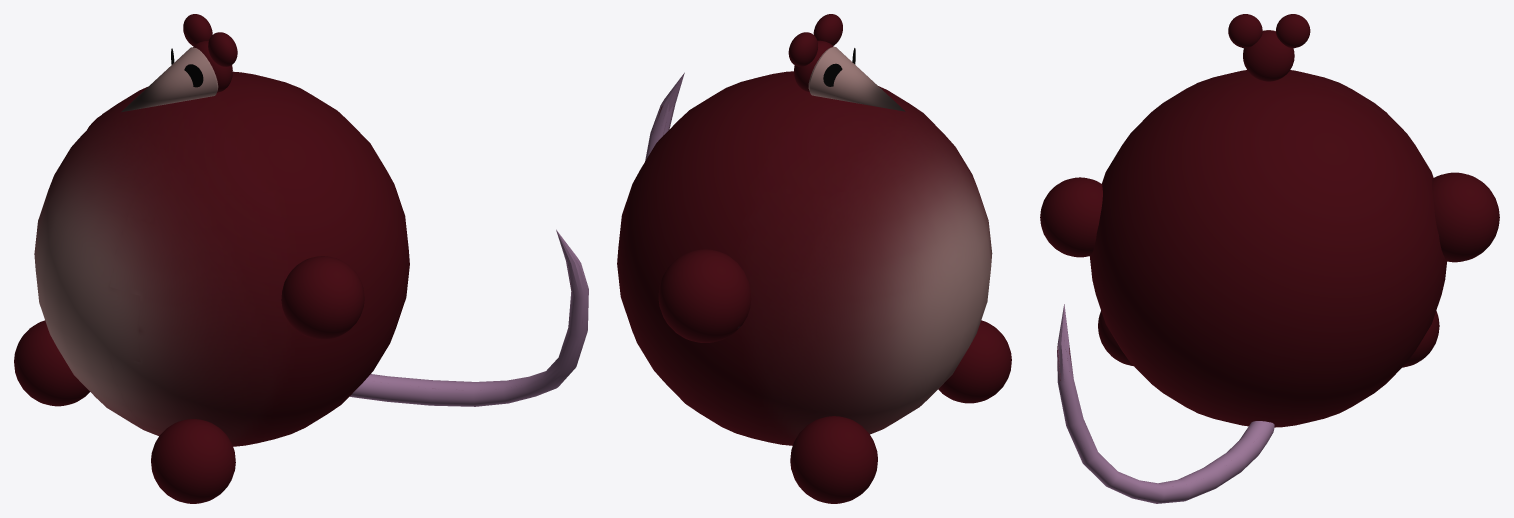
Rendered from BigR.fbx.
3 renders of one model, left to right at view 1: azimuth 30°, elevation 25°; view 2: azimuth 150°, elevation 25°; view 3: azimuth 270°, elevation 25°, orthographic. The views are drawn at different scales.
Visible parts, largest first — view 1: Sphere, Cylinder, Sphere.001, Sphere.004, Sphere.002, Cone, Sphere.006, Sphere.007; view 2: Sphere, Sphere.003, Sphere.002, Sphere.001, Cone, Cylinder, Sphere.007, Sphere.006, Sphere.005; view 3: Sphere, Cylinder, Sphere.003, Sphere.004, Sphere.005, Sphere.007, Sphere.006, Sphere.002, Sphere.001.
Part boxes in pixels (bbox=[...]): Sphere: bbox=[34, 71, 409, 446]; Cylinder: bbox=[350, 229, 588, 406]; Sphere.001: bbox=[151, 419, 235, 503]; Sphere.004: bbox=[281, 256, 364, 339]; Sphere.002: bbox=[14, 320, 89, 406]; Cone: bbox=[121, 47, 218, 112]; Sphere.006: bbox=[208, 32, 237, 66]; Sphere.007: bbox=[183, 14, 212, 46]; Sphere: bbox=[617, 71, 992, 445]; Sphere.003: bbox=[658, 249, 751, 342]; Sphere.002: bbox=[790, 416, 877, 503]; Sphere.001: bbox=[938, 320, 1011, 403]; Cone: bbox=[808, 46, 905, 111]; Cylinder: bbox=[632, 72, 684, 332]; Sphere.007: bbox=[788, 32, 817, 66]; Sphere.006: bbox=[813, 14, 842, 45]; Sphere.005: bbox=[794, 40, 833, 91]; Sphere: bbox=[1089, 70, 1446, 427]; Cylinder: bbox=[1057, 304, 1274, 503]; Sphere.003: bbox=[1432, 172, 1499, 262]; Sphere.004: bbox=[1040, 177, 1102, 257]; Sphere.005: bbox=[1243, 30, 1294, 81]; Sphere.007: bbox=[1276, 14, 1310, 47]; Sphere.006: bbox=[1228, 14, 1262, 47]; Sphere.002: bbox=[1402, 311, 1439, 367]; Sphere.001: bbox=[1098, 311, 1133, 366].
Bounding box in the file's own units: 419 × 384 × 410.
1 material, 1 textured.
